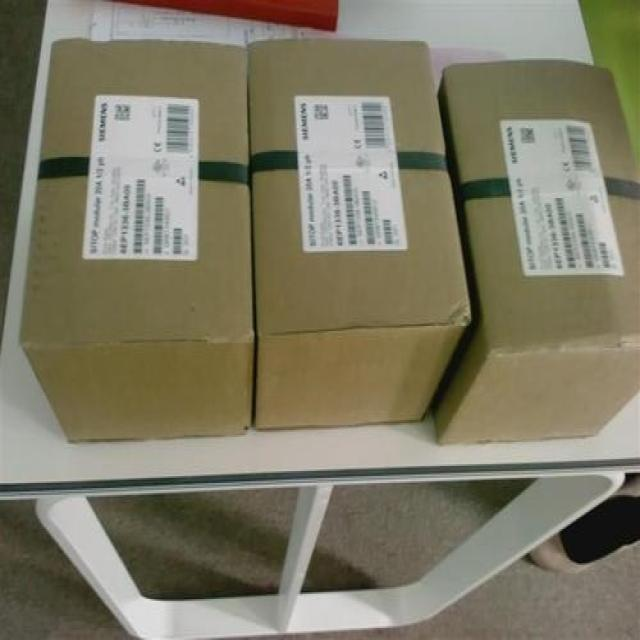box: (20, 44, 257, 443), (250, 43, 474, 429), (432, 59, 639, 443)
